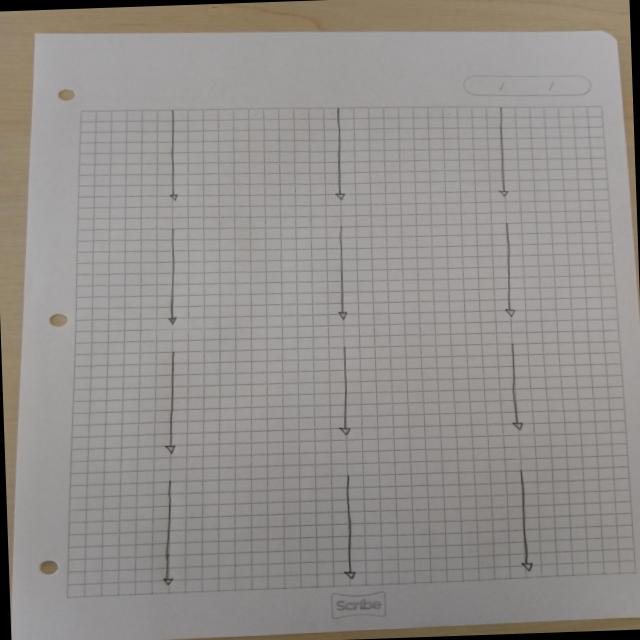arrow_line_down: (326, 469, 370, 587), (496, 338, 544, 436), (504, 464, 546, 576), (324, 347, 372, 442), (152, 479, 184, 593), (326, 106, 363, 204), (152, 108, 188, 202), (491, 220, 522, 316), (158, 235, 190, 325), (488, 104, 517, 201), (155, 352, 181, 457), (330, 228, 354, 322)
